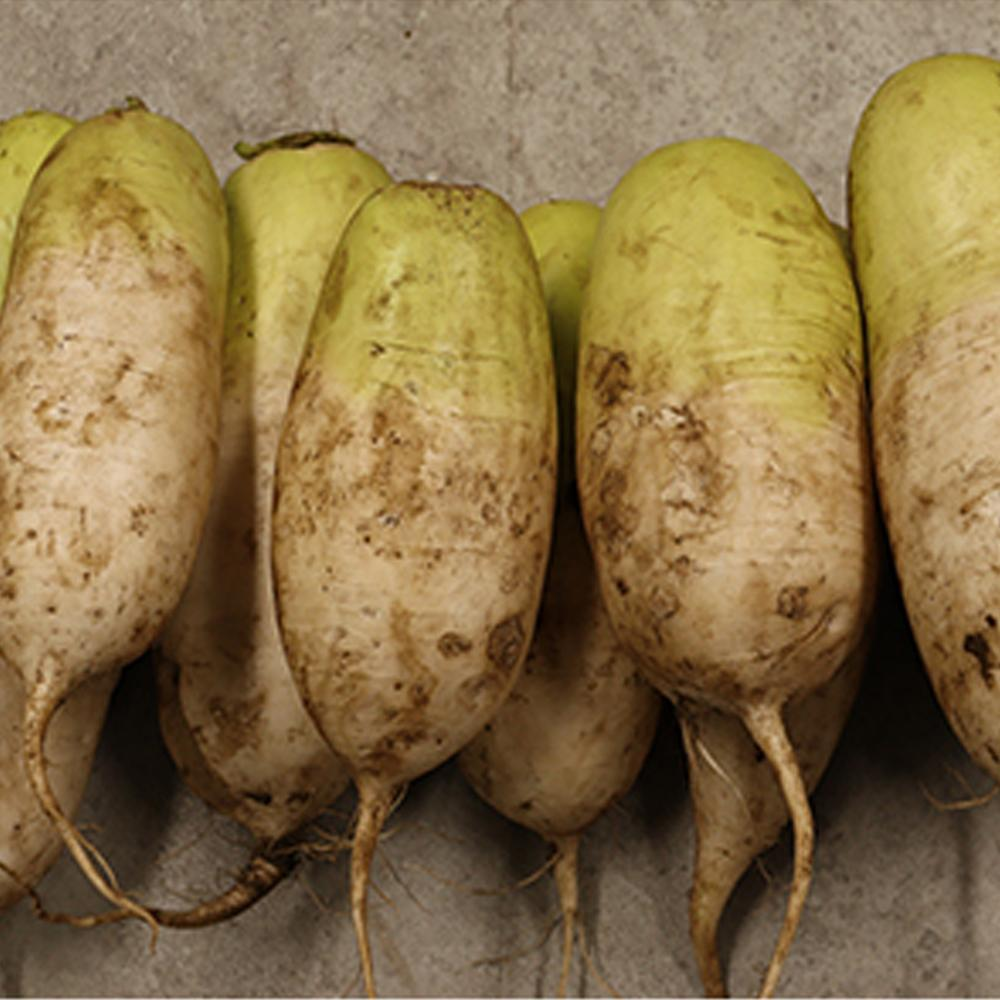radish: (462, 302, 852, 1000), (72, 244, 320, 1000), (799, 272, 1000, 1000)
